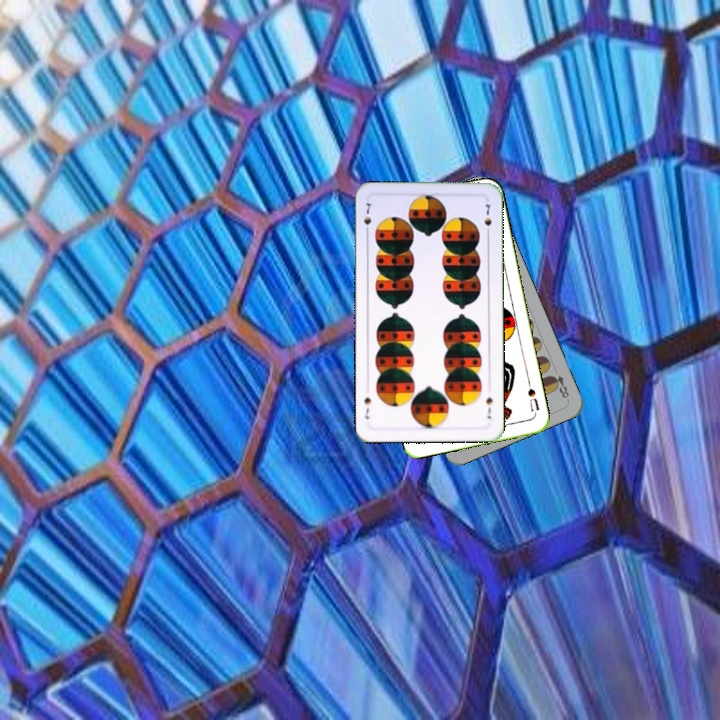E8: (546, 371, 572, 403)
S7: (360, 197, 375, 237), (482, 393, 495, 421)
SU: (523, 377, 542, 417)
